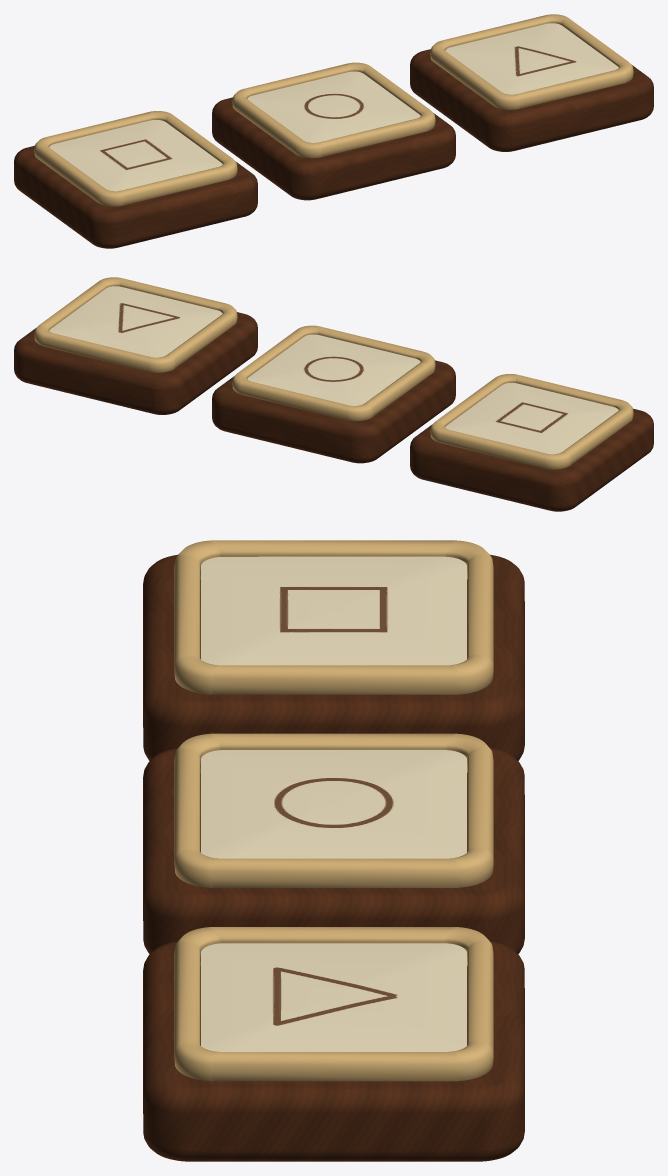
Rendered from cargo_art_01_symbol_keys.glb.
3 views of the same model, one above another, from view 1: azimuth 30°, elevation 25°; view 2: azimuth 150°, elevation 25°; view 3: azimuth 270°, elevation 25° (orthographic). The views are drawn at different scales.
Visible parts, largest first — view 1: square_wood, circle_wood, triangle_wood, triangle_face, circle_face, square_face, triangle_bezel, square_bezel, circle_bezel; view 2: square_wood, triangle_wood, circle_wood, triangle_face, circle_face, square_face, triangle_bezel, square_bezel, circle_bezel; view 3: triangle_wood, square_face, triangle_face, circle_face, square_wood, circle_wood, triangle_bezel, square_bezel, circle_bezel.
Boxes of the visible parts, x1=… form: square_wood: x1=14, y1=145, x2=257, y2=248; circle_wood: x1=212, y1=97, x2=455, y2=200; triangle_wood: x1=410, y1=49, x2=653, y2=151; triangle_face: x1=445, y1=23, x2=618, y2=94; circle_face: x1=247, y1=71, x2=420, y2=142; square_face: x1=49, y1=120, x2=222, y2=191; triangle_bezel: x1=430, y1=14, x2=633, y2=109; square_bezel: x1=34, y1=111, x2=237, y2=206; circle_bezel: x1=232, y1=62, x2=435, y2=158; square_wood: x1=410, y1=408, x2=653, y2=511; triangle_wood: x1=14, y1=312, x2=257, y2=414; circle_wood: x1=212, y1=360, x2=455, y2=463; triangle_face: x1=49, y1=286, x2=222, y2=357; circle_face: x1=247, y1=334, x2=420, y2=405; square_face: x1=445, y1=383, x2=618, y2=454; triangle_bezel: x1=34, y1=277, x2=237, y2=372; square_bezel: x1=430, y1=374, x2=633, y2=469; circle_bezel: x1=232, y1=325, x2=435, y2=421; triangle_wood: x1=143, y1=941, x2=524, y2=1161; square_face: x1=201, y1=556, x2=466, y2=665; triangle_face: x1=201, y1=943, x2=466, y2=1051; circle_face: x1=201, y1=750, x2=466, y2=858; square_wood: x1=143, y1=554, x2=524, y2=760; circle_wood: x1=143, y1=748, x2=524, y2=953; triangle_bezel: x1=174, y1=927, x2=493, y2=1081; square_bezel: x1=174, y1=540, x2=493, y2=694; circle_bezel: x1=174, y1=733, x2=493, y2=887.
Size of the model in its own units: 0.224 by 0.0183 by 0.066.
Materials: 5 (4 with a texture image).
